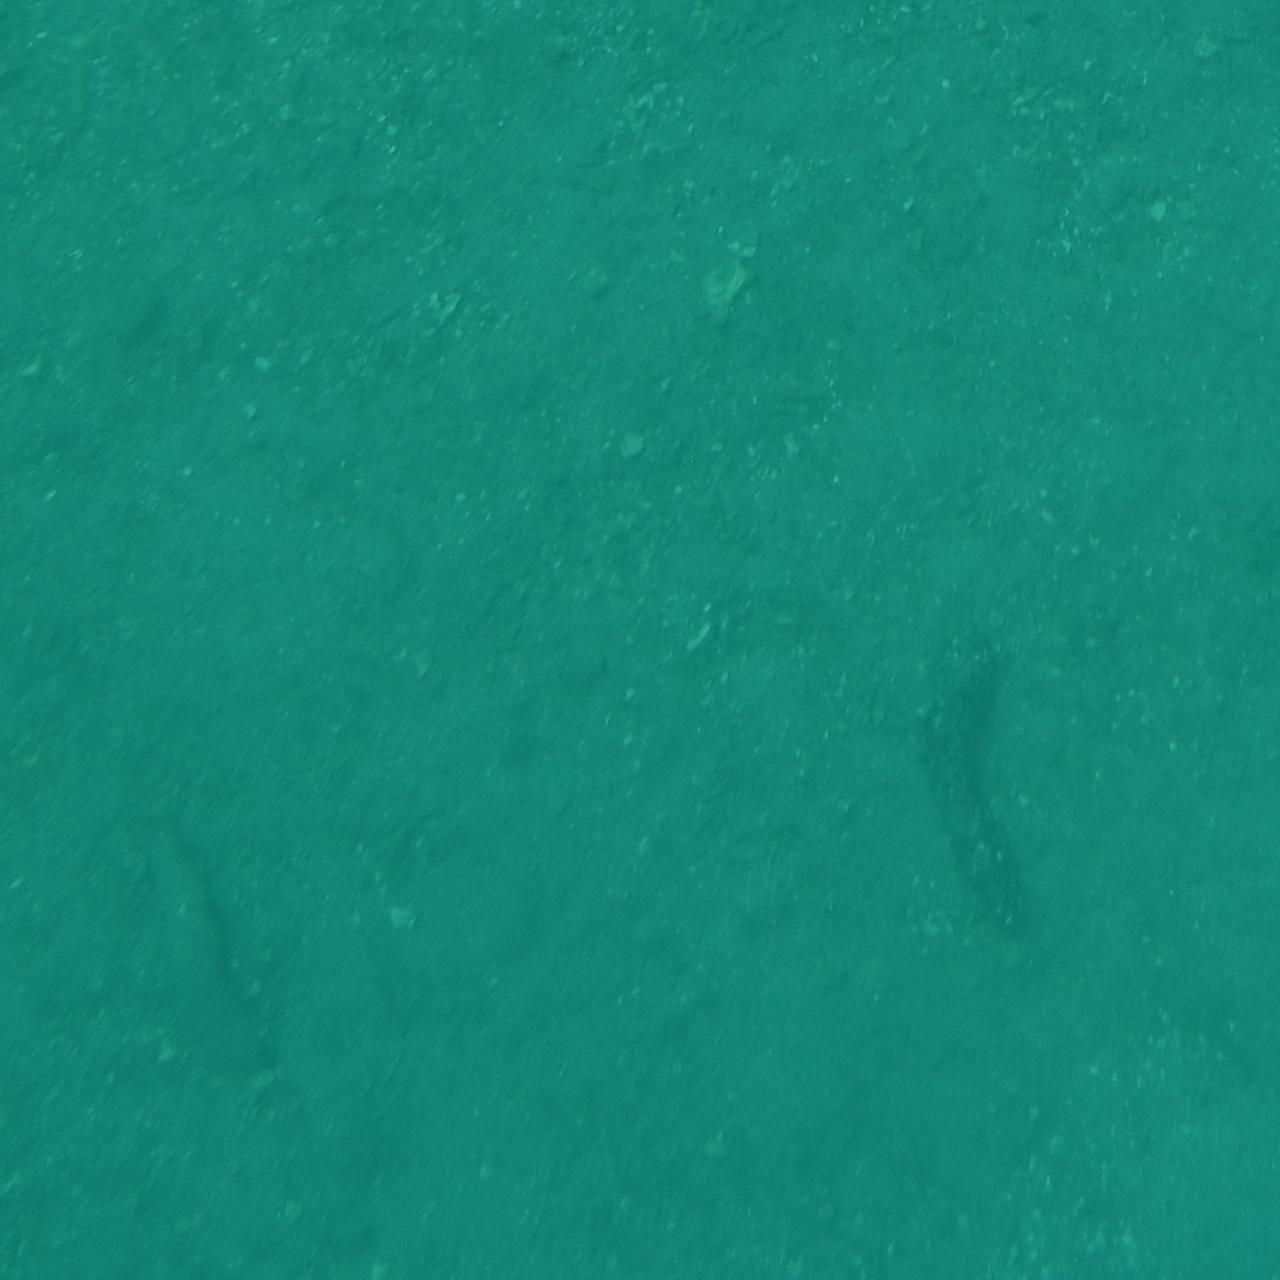Holothuria tubulosa: (903, 612, 1087, 954), (118, 815, 321, 1091), (1133, 670, 1280, 927), (0, 313, 123, 599), (0, 772, 182, 926), (1155, 819, 1280, 985), (0, 430, 80, 681)
